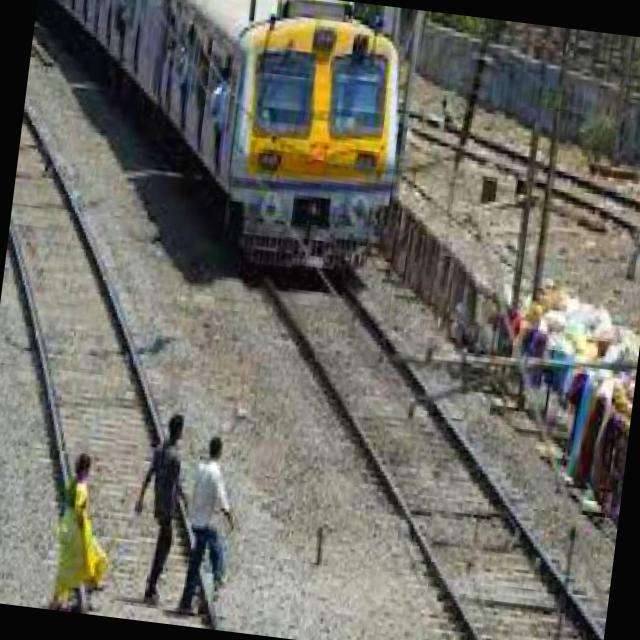Person: (170, 424, 247, 624), (125, 408, 189, 606), (40, 446, 112, 610)
